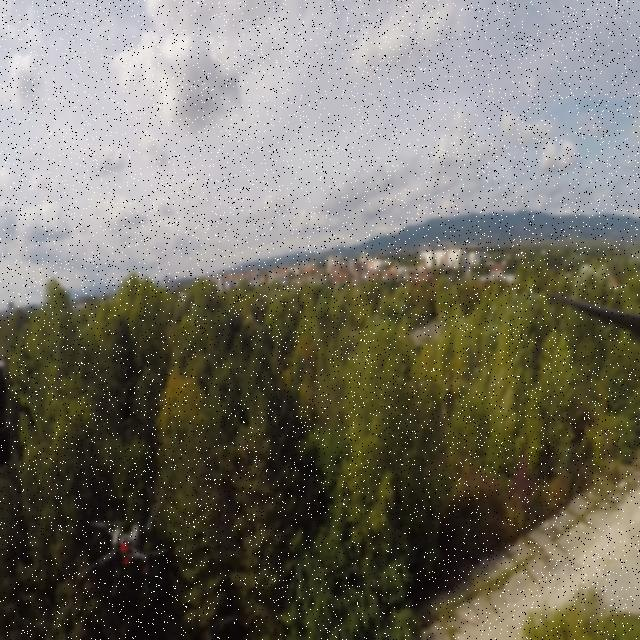UAV: (79, 496, 169, 598)
